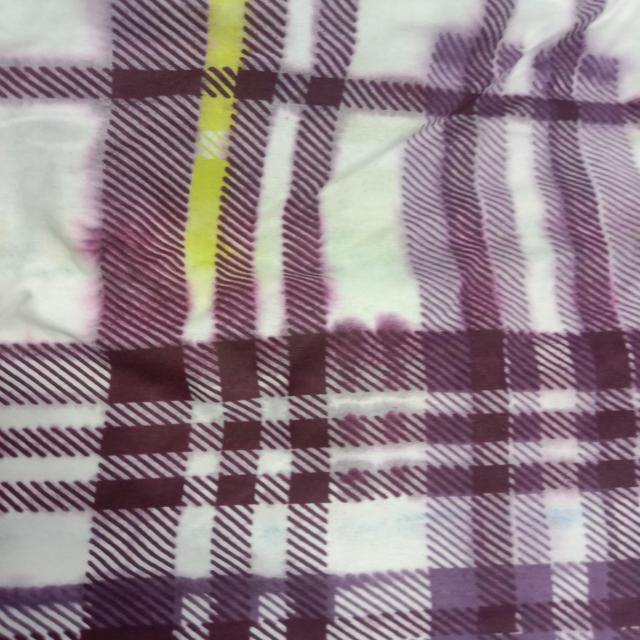baekra: (63, 18, 629, 621)
